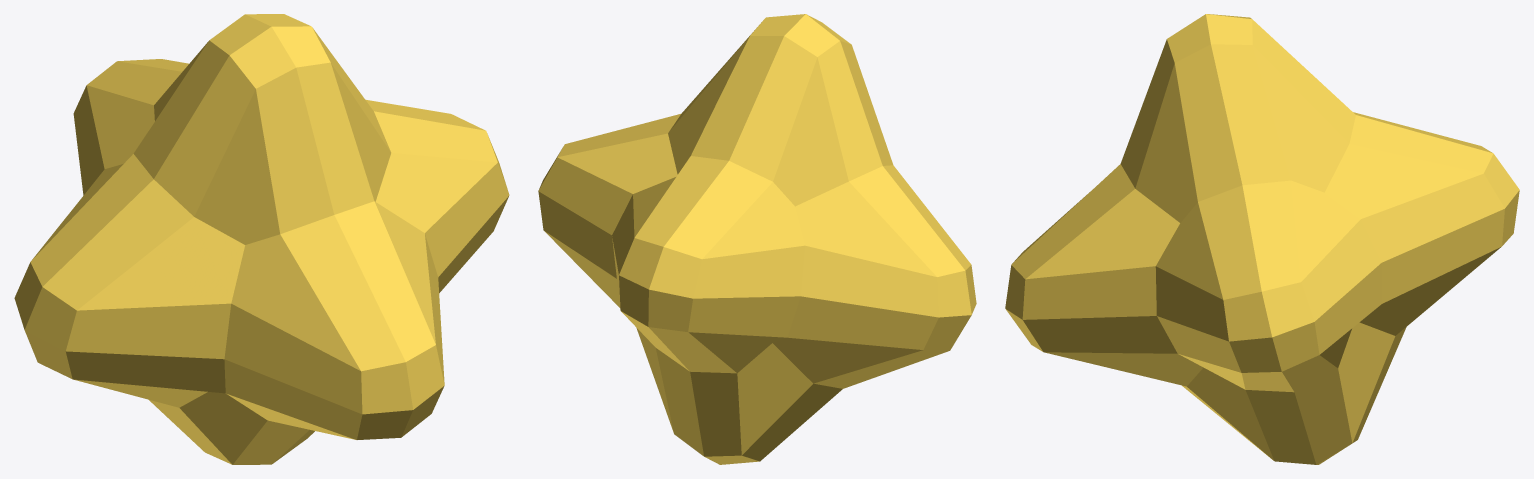
The model's file is Resource.fbx.
The picture shows the model from 3 angles, left to right: view 1: azimuth 30°, elevation 25°; view 2: azimuth 150°, elevation 25°; view 3: azimuth 270°, elevation 25°; orthographic projection. The views are drawn at different scales.
Visible parts, largest first — view 1: Resource5; view 2: Resource5; view 3: Resource5.
Part boxes in pixels (x1=…): Resource5: x1=14, y1=14, x2=509, y2=464; Resource5: x1=538, y1=14, x2=976, y2=464; Resource5: x1=1005, y1=14, x2=1519, y2=464.
Bounding box in the file's own units: 8.5 × 8.07 × 8.65.
